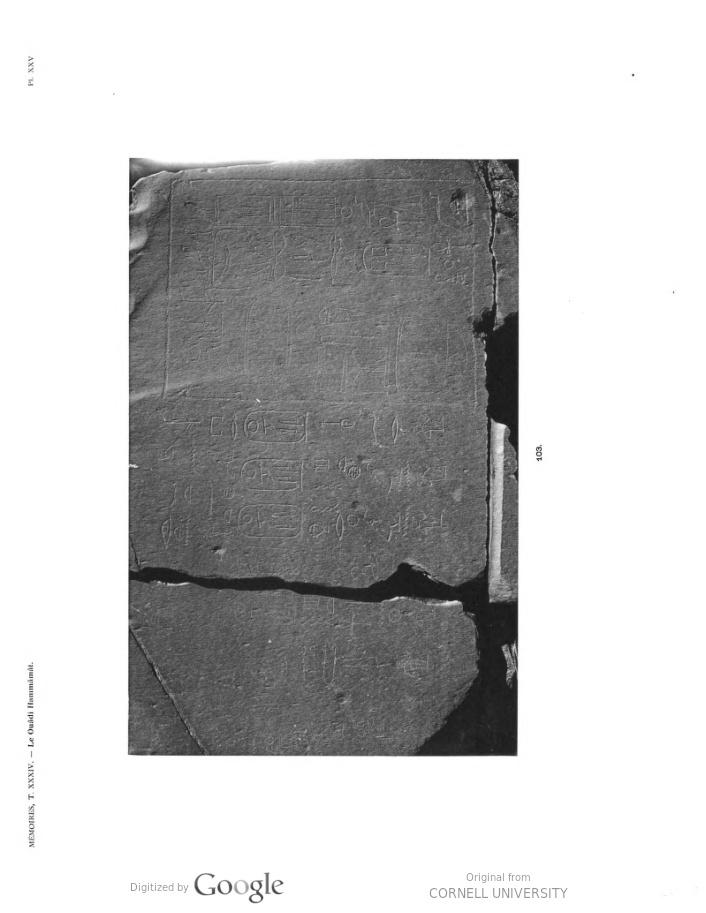circle: (223, 397, 324, 449), (223, 501, 321, 551), (233, 454, 326, 501), (354, 240, 446, 287)
